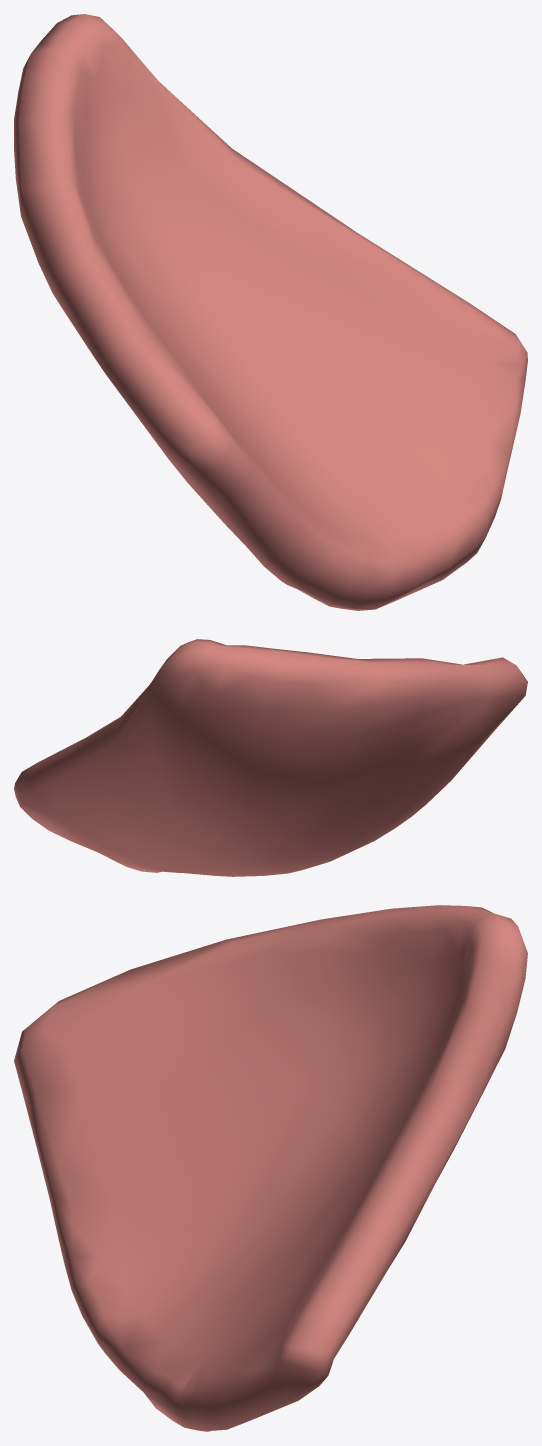
3 renders of one model, top to bottom at view 1: azimuth 30°, elevation 25°; view 2: azimuth 150°, elevation 25°; view 3: azimuth 270°, elevation 25°, orthographic. The views are drawn at different scales.
Parts seen in each view (by area): view 1: ZA_c9bc14aebd863724; view 2: ZA_c9bc14aebd863724; view 3: ZA_c9bc14aebd863724.
Part boxes in pixels (x1=…): ZA_c9bc14aebd863724: x1=14, y1=14, x2=527, y2=610; ZA_c9bc14aebd863724: x1=14, y1=639, x2=527, y2=876; ZA_c9bc14aebd863724: x1=14, y1=905, x2=527, y2=1431.
Size of the model in its own units: 0.00439 by 0.00389 by 0.00432.
